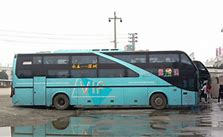bigcar: (4, 39, 205, 123)
